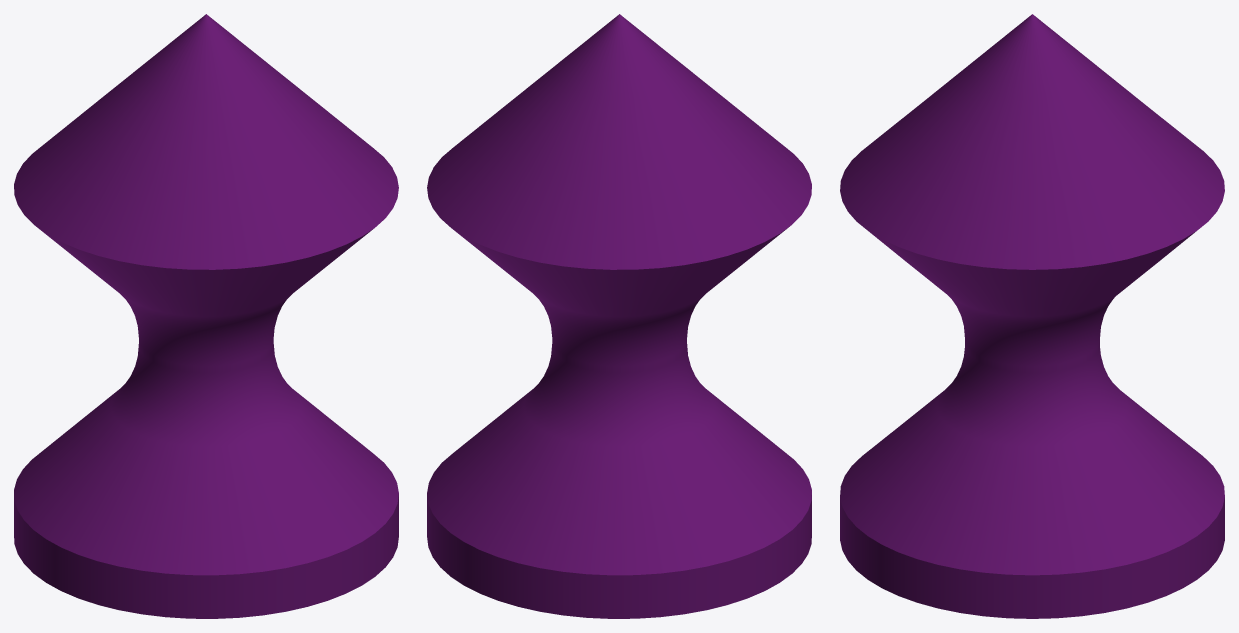
Rendered from Fate Game Piece V3 Purple.glb.
3 renders of one model, left to right at view 1: azimuth 30°, elevation 25°; view 2: azimuth 150°, elevation 25°; view 3: azimuth 270°, elevation 25°, orthographic.
Parts seen in each view (by area): view 1: Solid1; view 2: Solid1; view 3: Solid1.
Boxes of the visible parts, x1=… form: Solid1: x1=14, y1=14, x2=398, y2=618; Solid1: x1=427, y1=14, x2=811, y2=618; Solid1: x1=840, y1=14, x2=1224, y2=618.
Bounding box in the file's own units: 0.0254 × 0.0381 × 0.0254.
